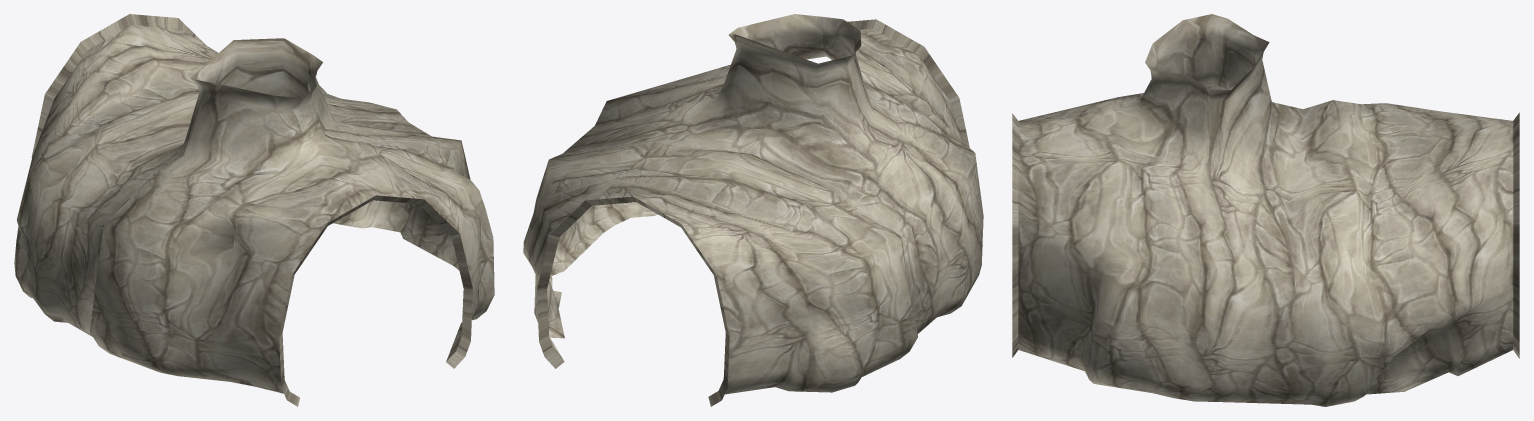
File: cave ceiling round open.FBX
3 renders of one model, left to right at view 1: azimuth 30°, elevation 25°; view 2: azimuth 150°, elevation 25°; view 3: azimuth 270°, elevation 25°, orthographic. The views are drawn at different scales.
Parts seen in each view (by area): view 1: cave ceiling round open; view 2: cave ceiling round open; view 3: cave ceiling round open.
Part boxes in pixels (x1,y1,x2,y2): cave ceiling round open: (14, 14, 494, 406); cave ceiling round open: (523, 14, 983, 406); cave ceiling round open: (1012, 14, 1519, 406).
Bounding box in the file's own units: 36.67 × 24.46 × 41.04.
